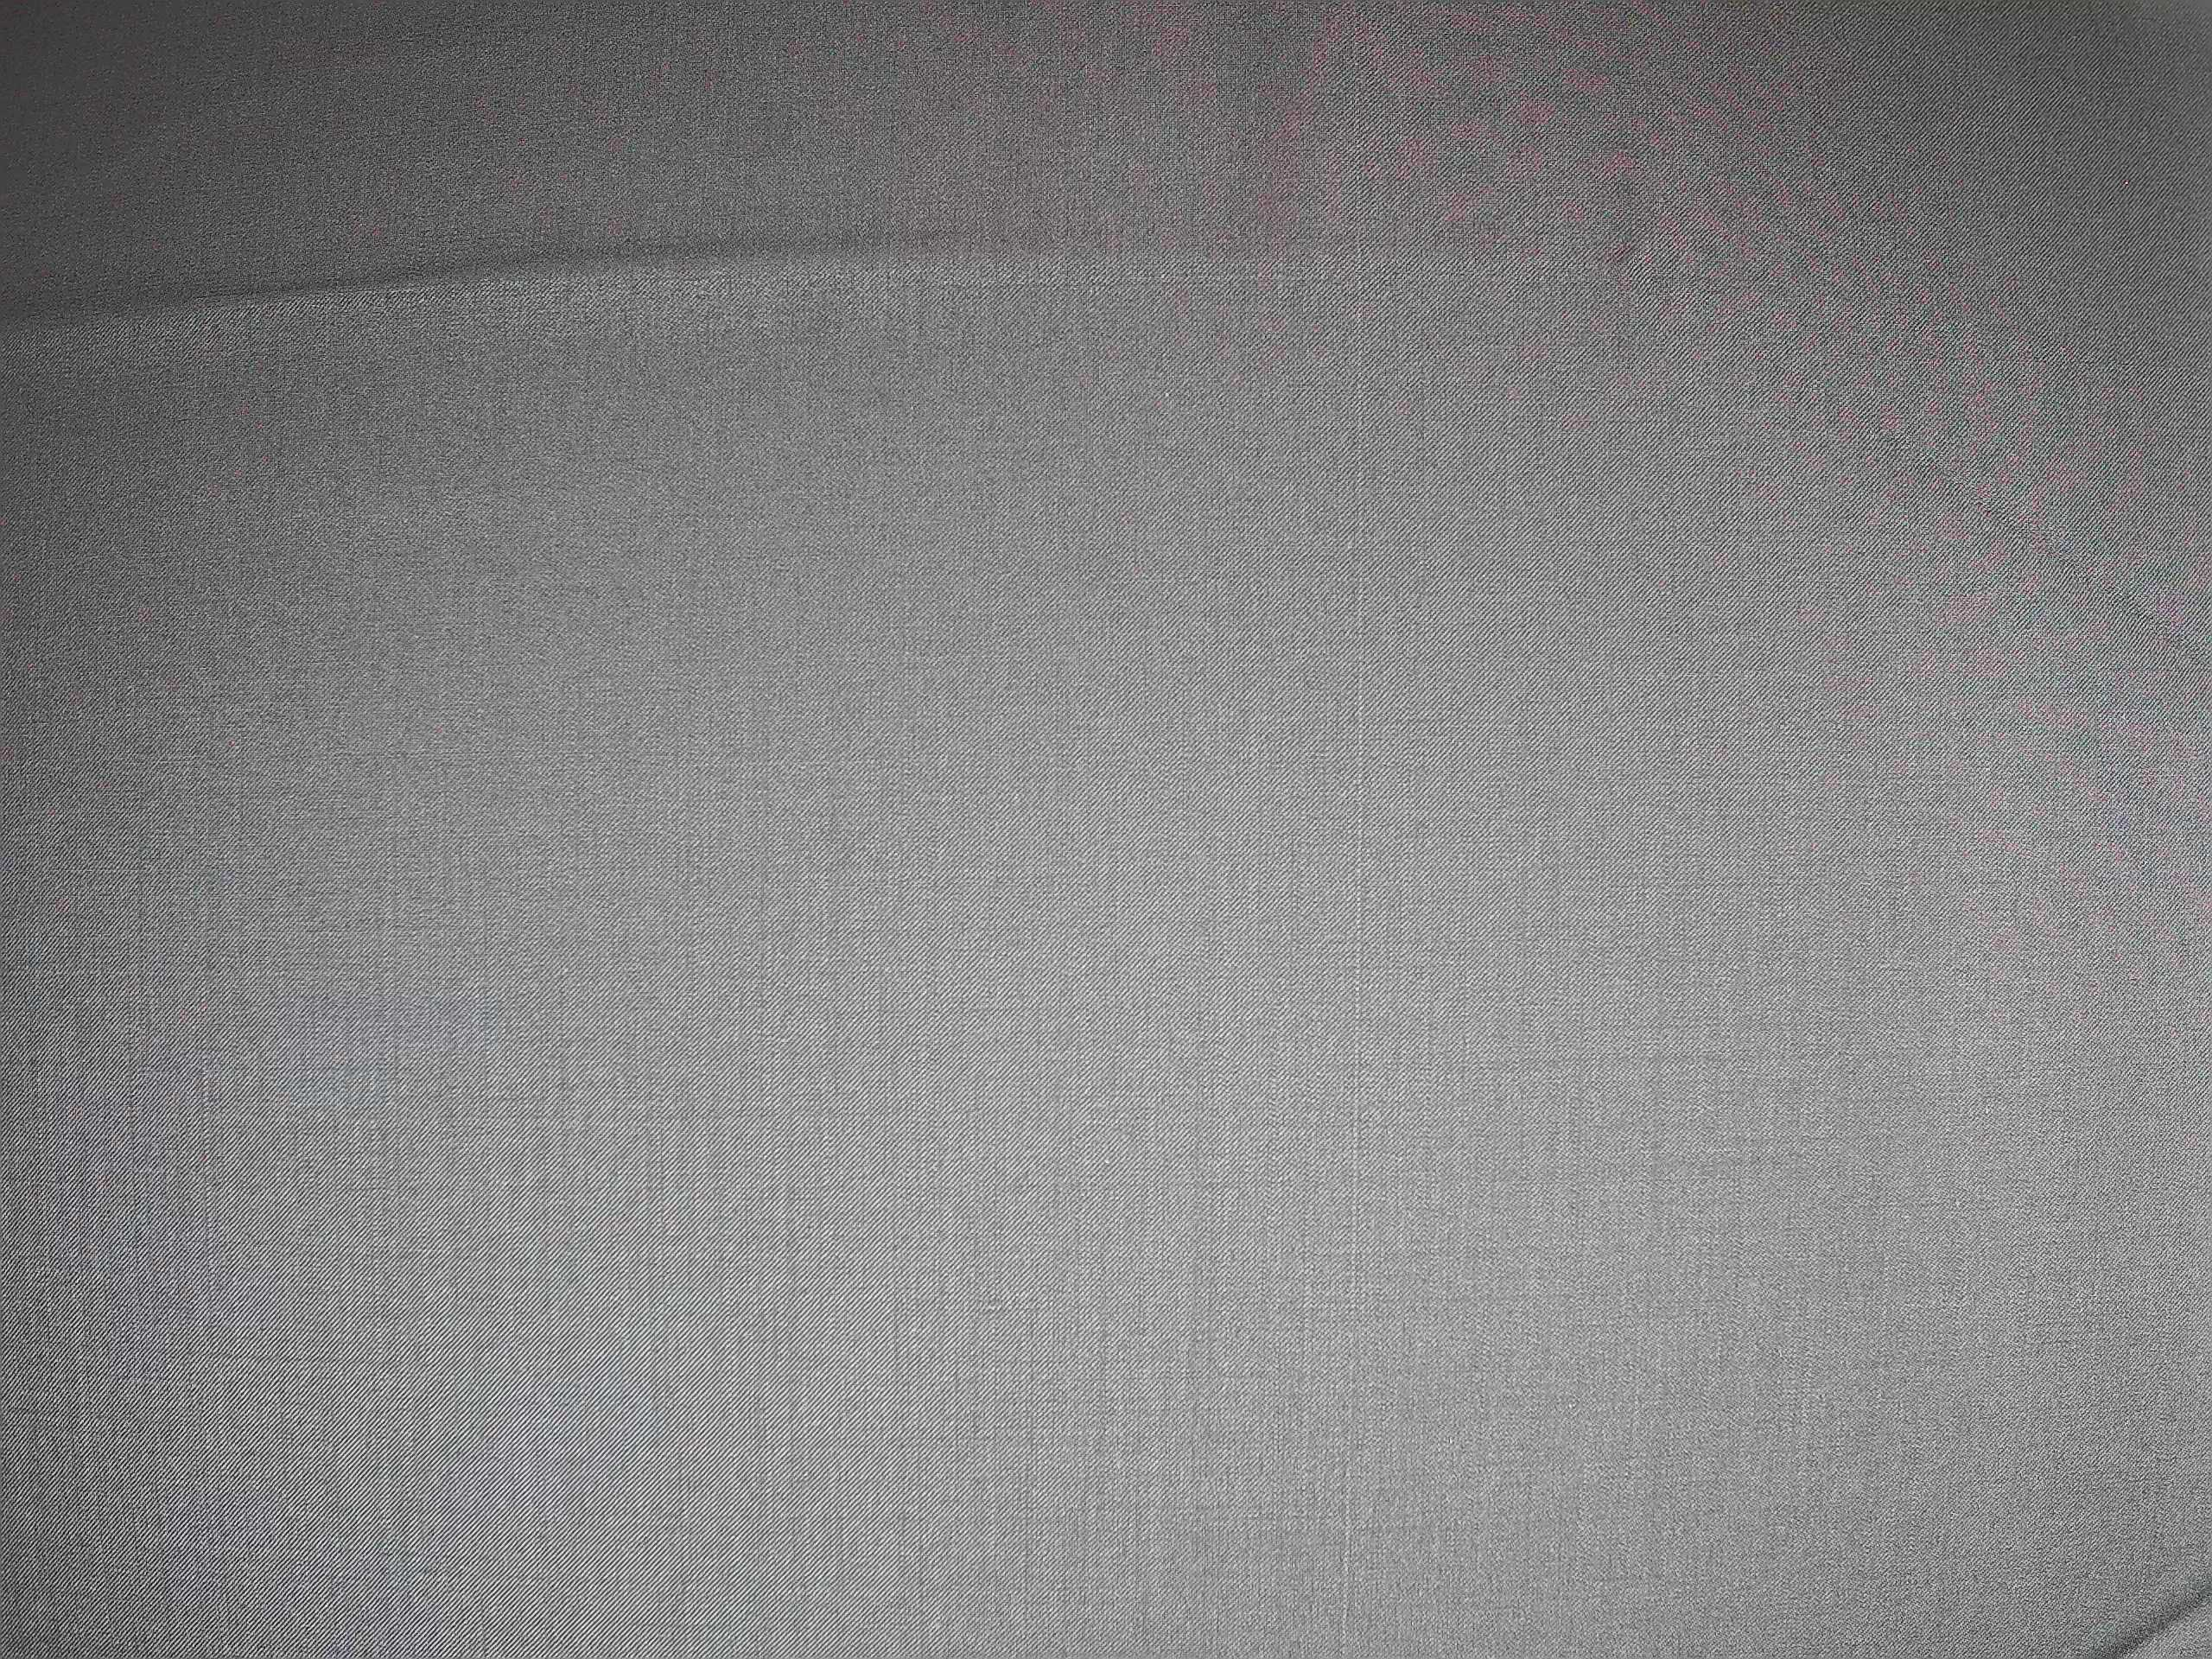others: (1339, 9, 1372, 1645)
